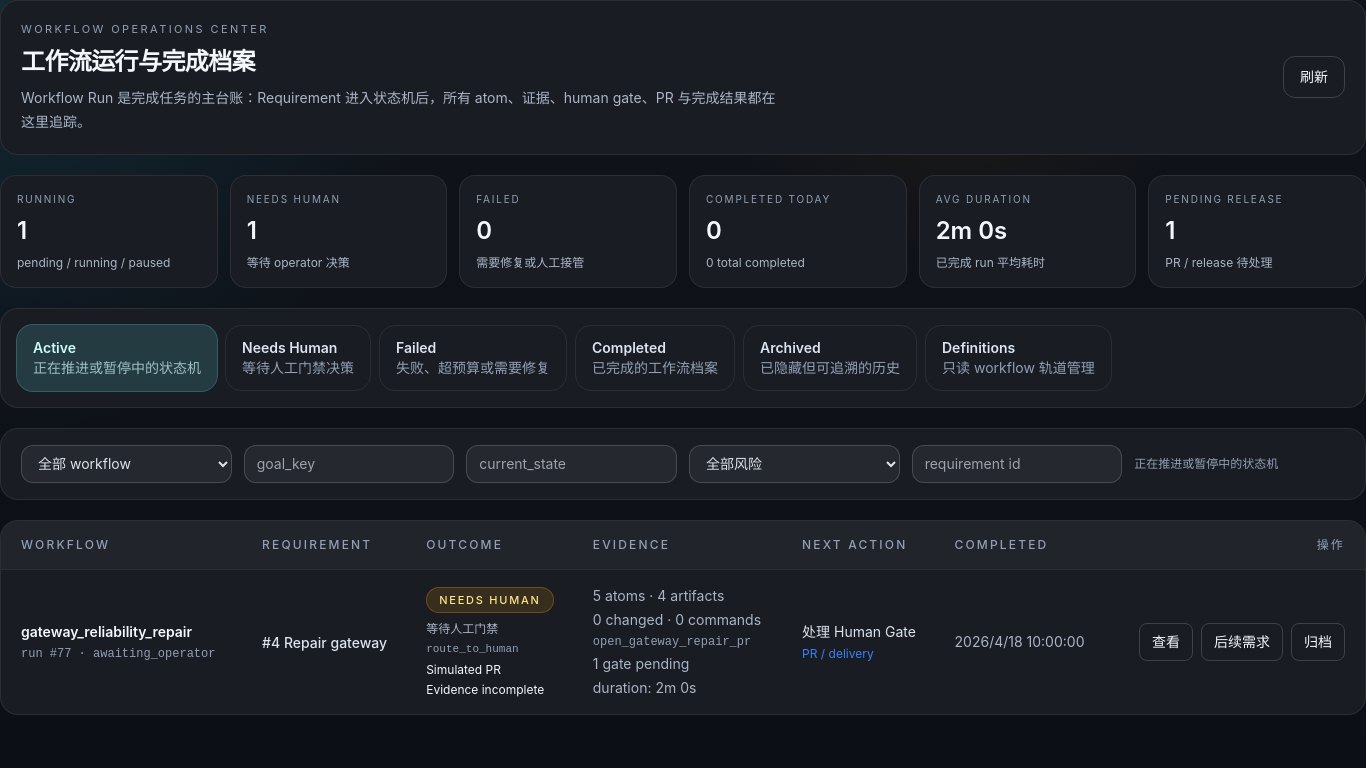
Test: WorkflowRunsPage › renders workflow management stats, filters, and generated work summary columns
The image size is (1366, 768).
Expected: the element with test id "workflow-run-stats" shows "Needs Human", [247,192,341,204]
Expected: the element with test id "workflow-run-filters" is shown, [0,428,1365,500]
What coordinates should you click on to do the following:
click the text "Definitions"
I would click on:
 (979, 347)
Its box is [942,338,1015,356].
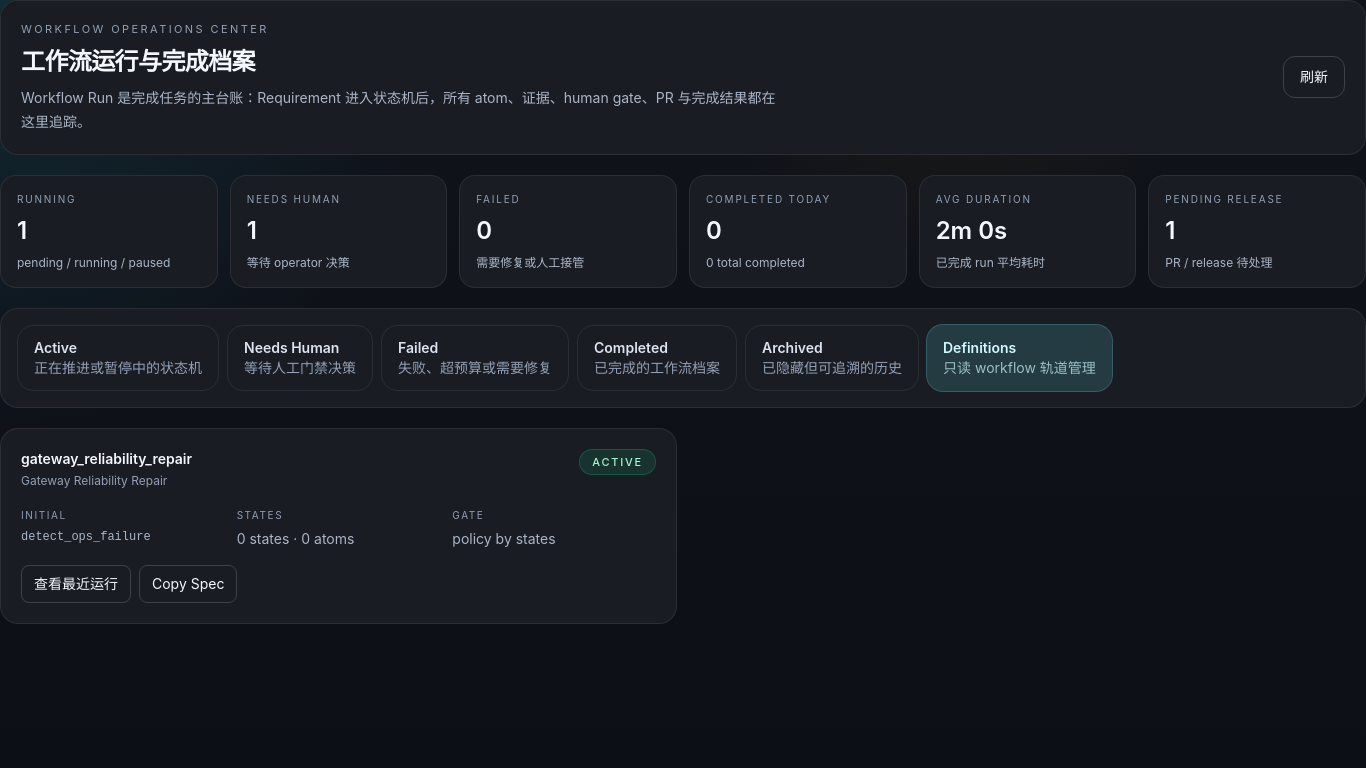
Now the element with test id "workflow-definitions-panel" is shown, box [0,428,677,624]
